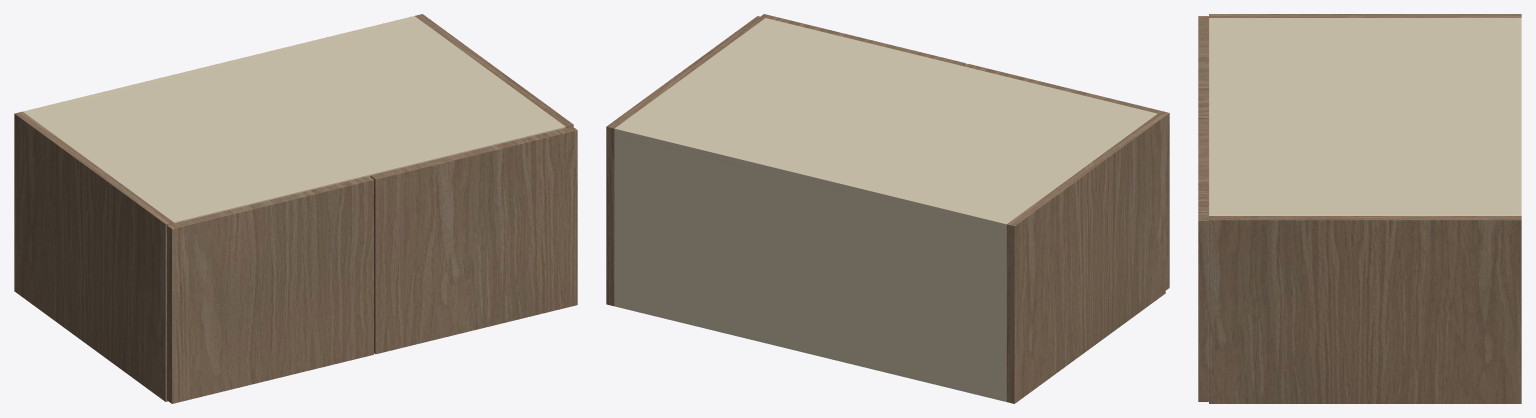
Rendered from oppein-ply-mnw-w361524.glb.
The picture shows the model from 3 angles, left to right: view 1: azimuth 30°, elevation 25°; view 2: azimuth 150°, elevation 25°; view 3: azimuth 270°, elevation 25°; orthographic projection. The views are drawn at different scales.
Visible parts, largest first — view 1: Cabinet top, Door, Door.001, Cabinet side, Cabinet side.001, Cabinet back; view 2: Cabinet back, Cabinet top, Cabinet side, Cabinet side.001, Door, Cabinet bottom, Door.001; view 3: Cabinet top, Cabinet side.001, Door.001, Cabinet back, Cabinet side, Door.
Boxes of the visible parts, x1,y1,x2,y2 form: Cabinet top: [23, 16, 565, 223]; Door: [167, 176, 373, 403]; Door.001: [370, 126, 577, 354]; Cabinet side: [14, 111, 173, 401]; Cabinet side.001: [415, 14, 573, 127]; Cabinet back: [23, 16, 416, 113]; Cabinet back: [614, 126, 1006, 401]; Cabinet top: [614, 18, 1157, 231]; Cabinet side: [1006, 113, 1165, 403]; Cabinet side.001: [606, 16, 764, 306]; Door: [964, 63, 1169, 290]; Cabinet bottom: [616, 306, 1005, 401]; Door.001: [761, 14, 965, 66]; Cabinet top: [1209, 18, 1521, 215]; Cabinet side.001: [1209, 216, 1521, 403]; Door.001: [1198, 119, 1208, 401]; Cabinet back: [1515, 18, 1521, 215]; Cabinet side: [1209, 14, 1521, 17]; Door: [1198, 16, 1208, 118].
Bounding box in the file's own units: 0.9144 × 0.381 × 0.6064.
Materials: 2 (1 with a texture image).
